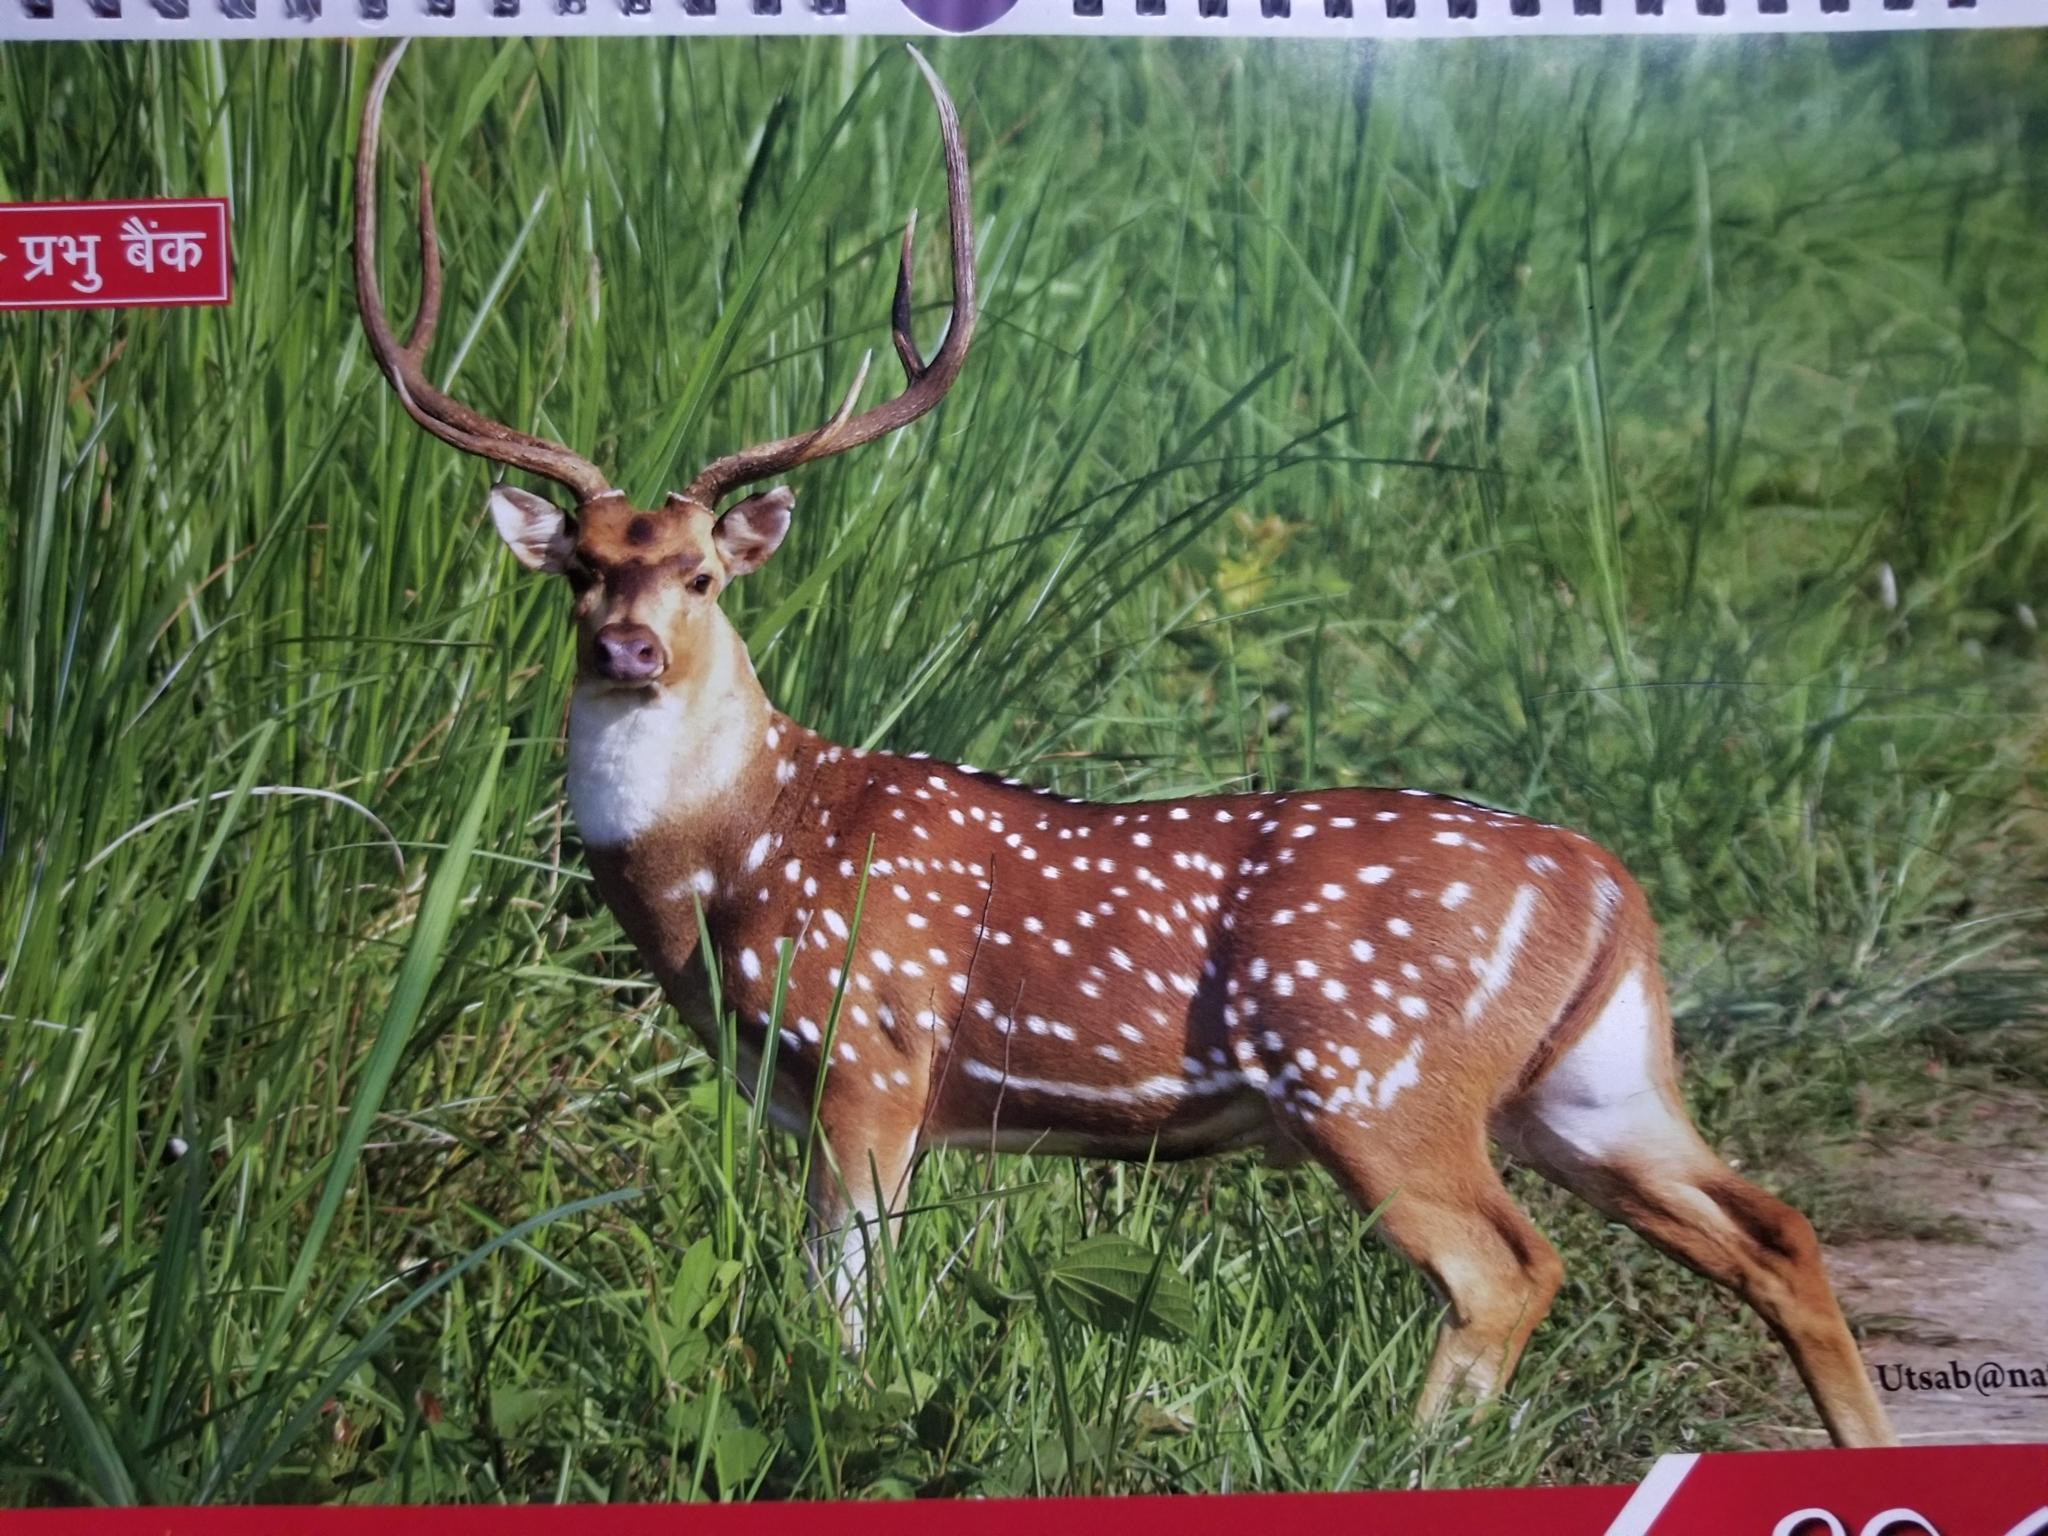Deer: (355, 44, 1892, 1446)
